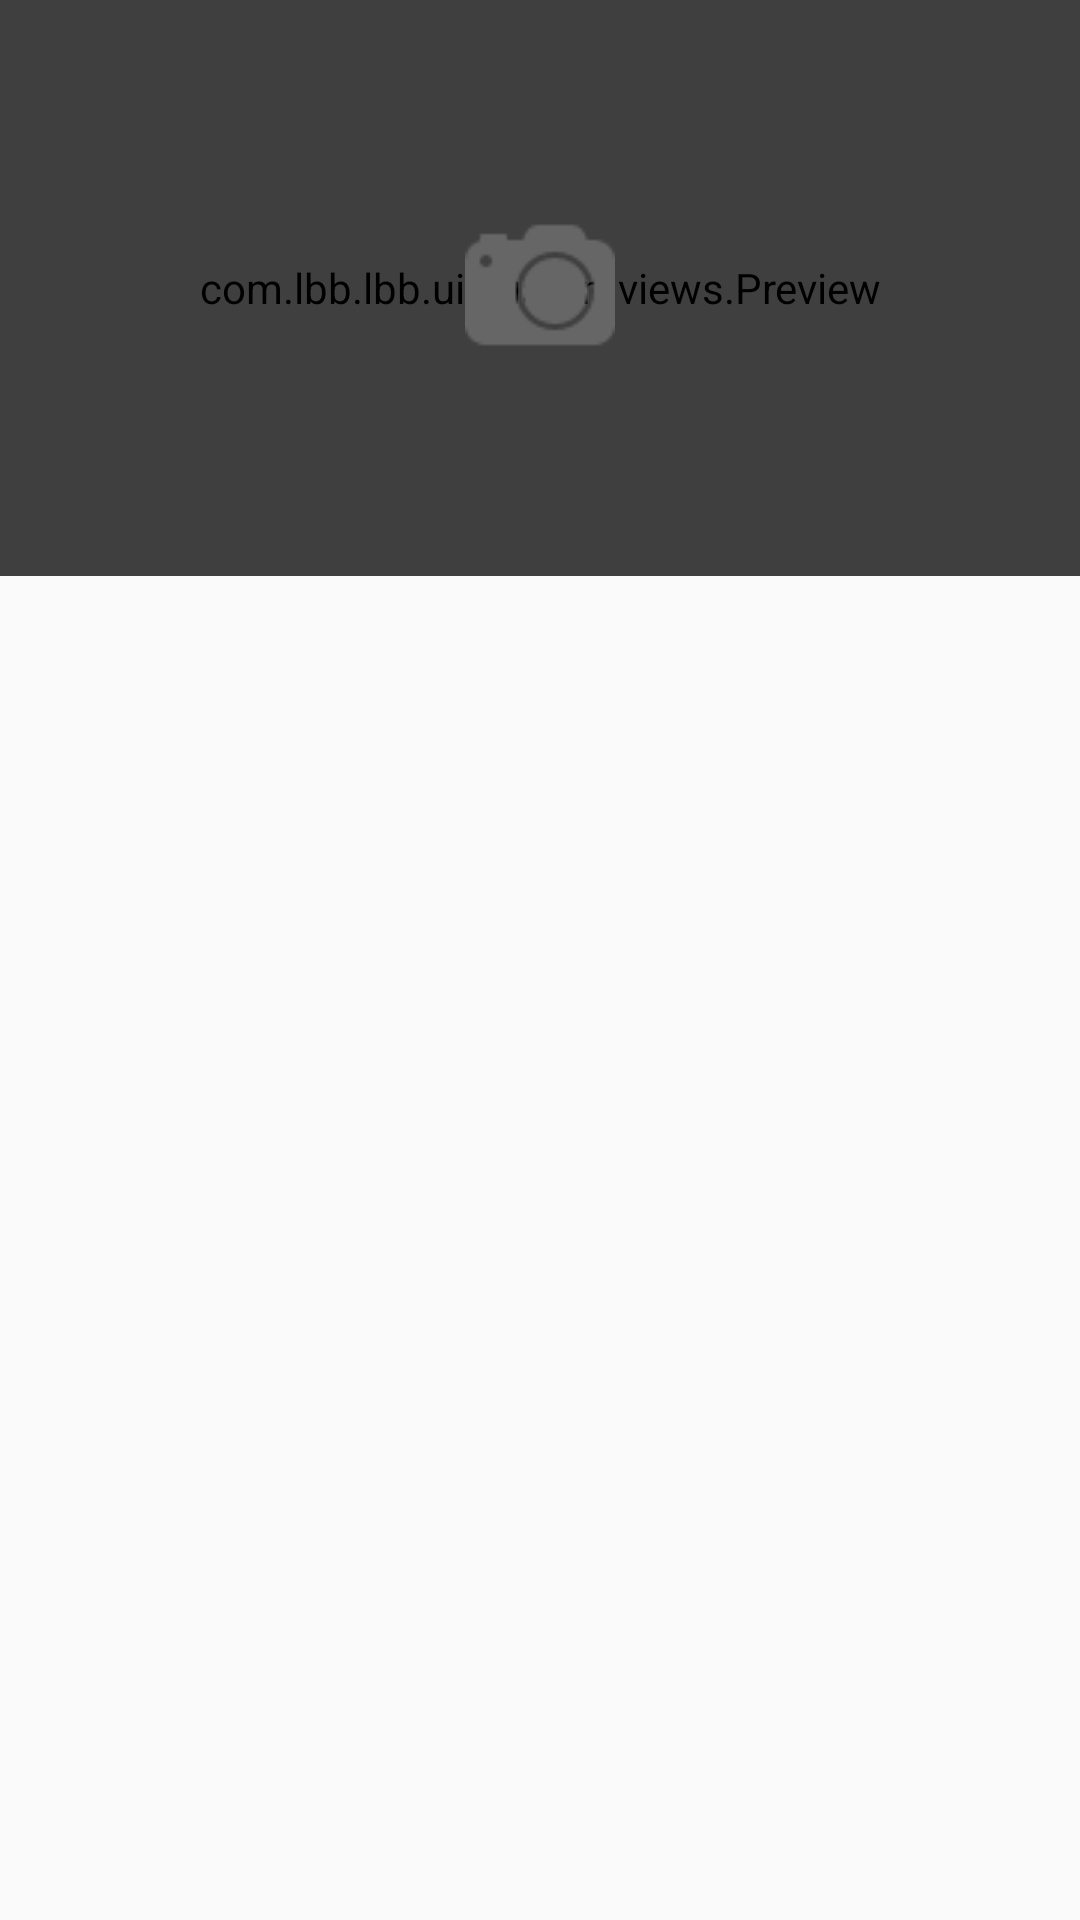

Icon click points for this 1080 × 1920 phone screenshot, format [x,y]:
camera: [540,285]
